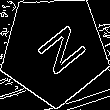N_SW: (23, 18, 85, 81)
